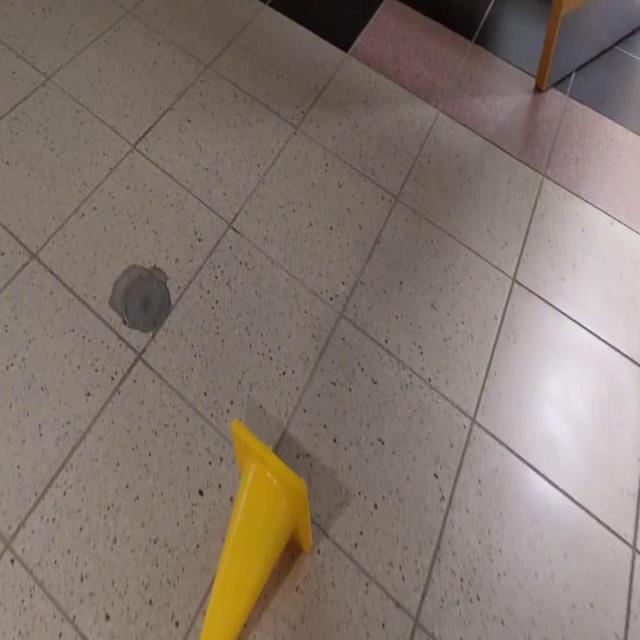frc_cone: (199, 415, 315, 640)
